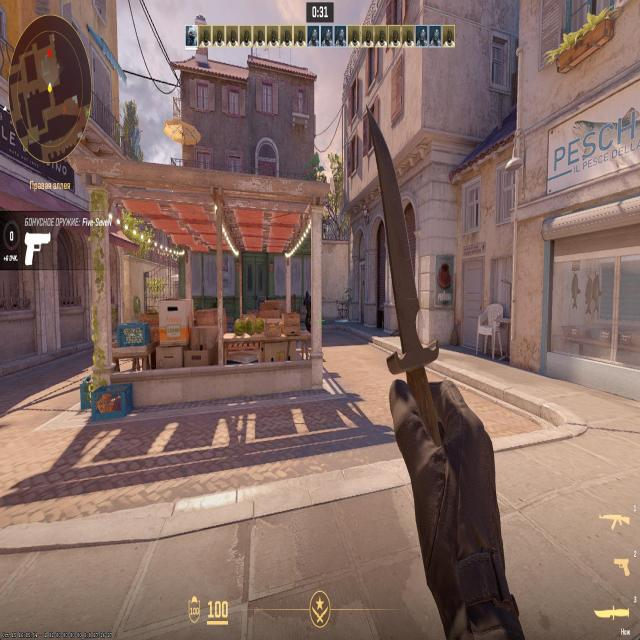CT: (306, 292, 310, 329)
CT_heat: (306, 293, 310, 300)
